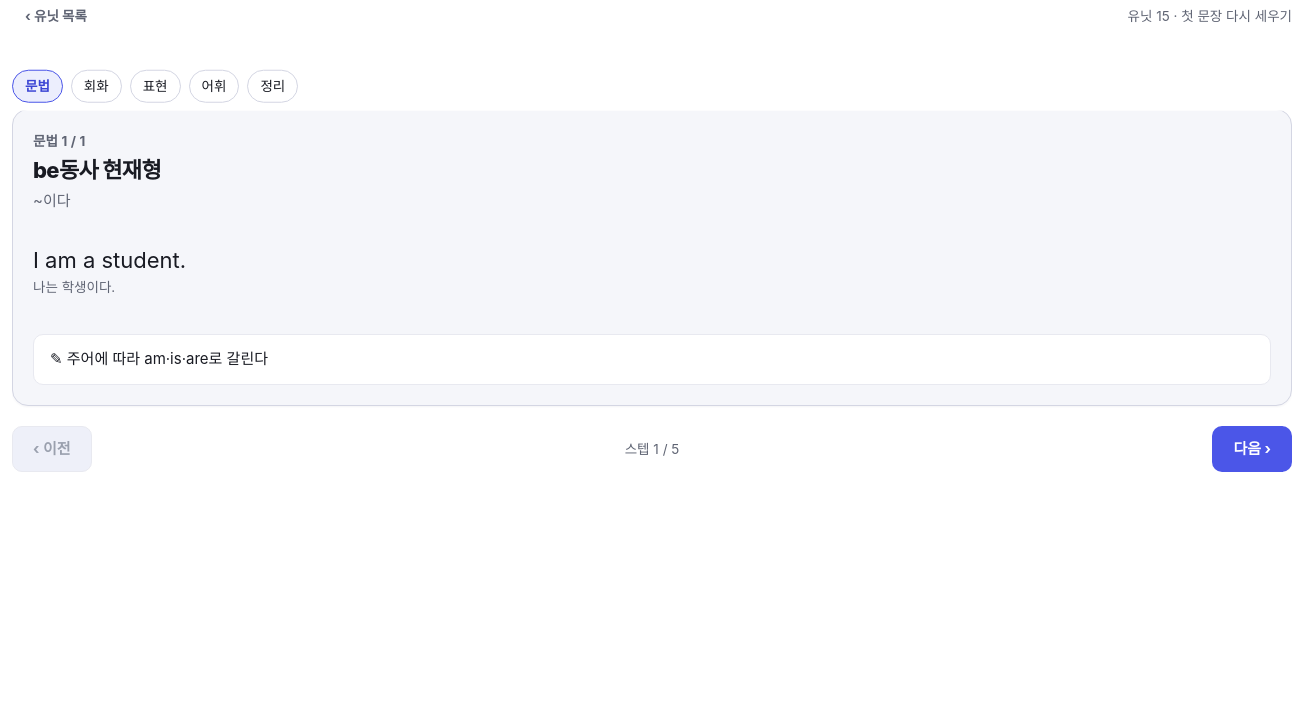
완주했지만 다음 코스가 준비중일 때 (상태 3) › 다음 코스가 열려 있으면 그 문장은 붙지 않는다 — 기다릴 이유가 없다
The width and height of the screenshot is (1304, 720).
Click the button "정리" at (273, 86), box top-left (247, 70), bottom-right (298, 102)
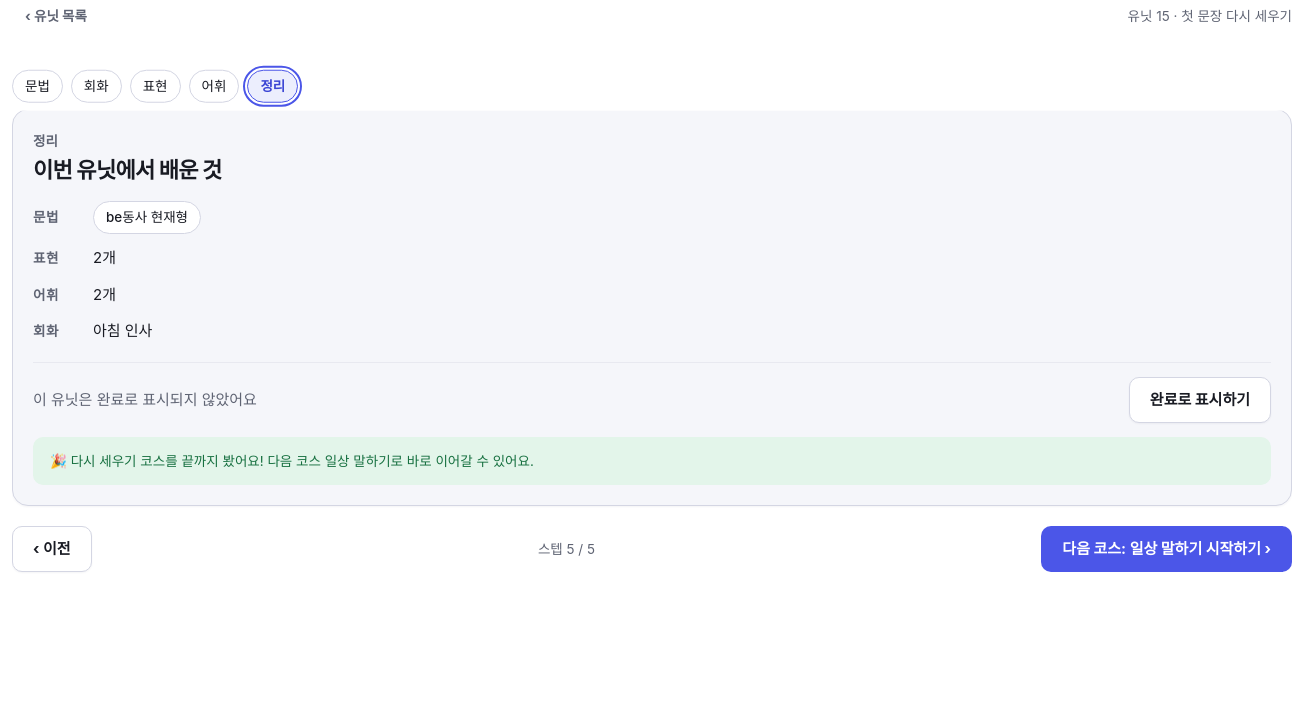
Result: the text "🎉 다시 세우기 코스를 끝까지 봤어요! 다음 코스 일상 말하기로 바로 이어갈 수 있어요." is shown at top-left (33, 437), bottom-right (1271, 485)
